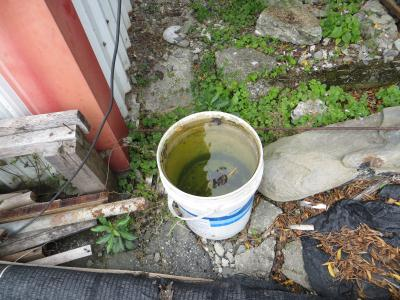bucket: (152, 106, 271, 247)
